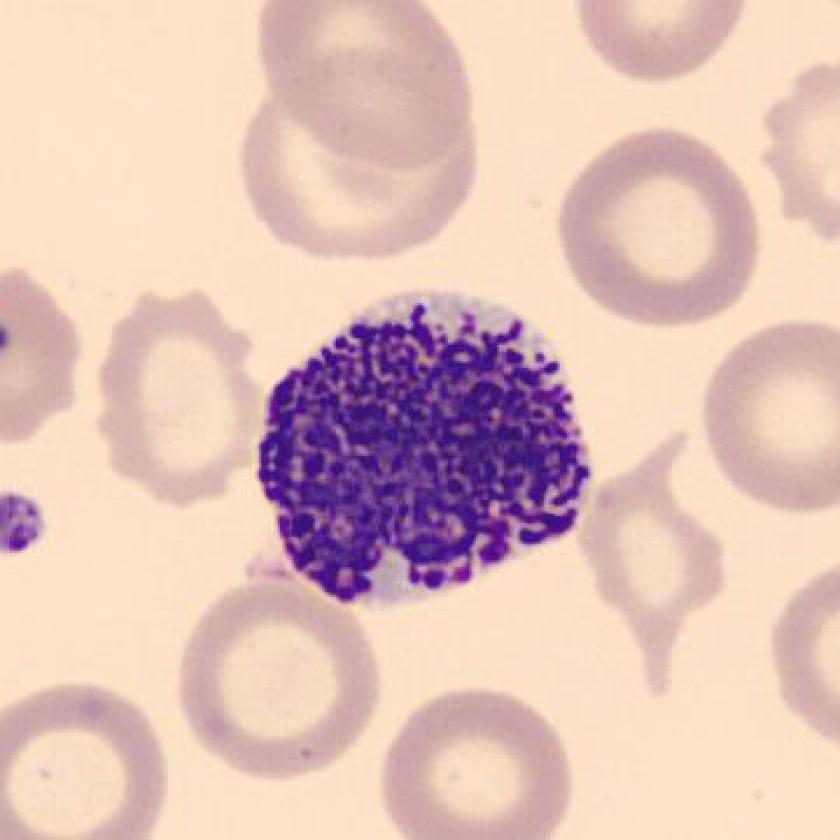basophil: (256, 279, 599, 600)
